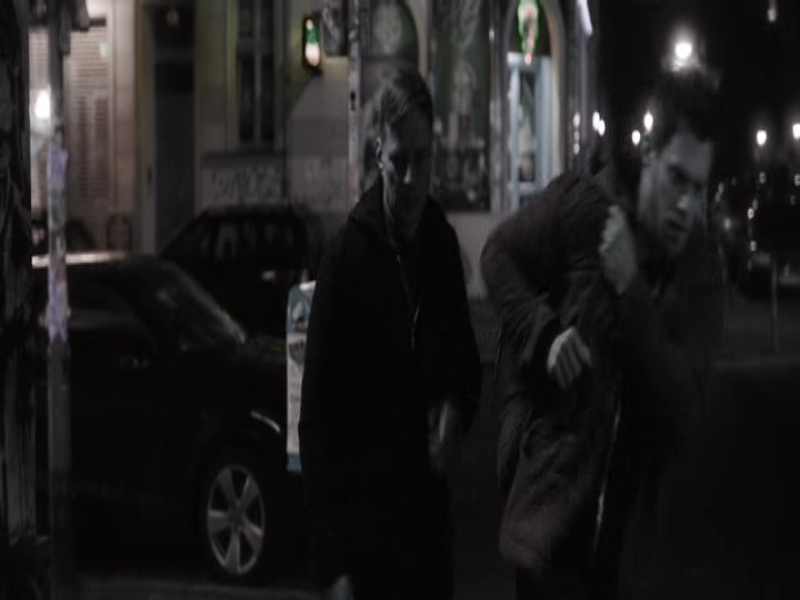TsisyArotava: (631, 102, 723, 264), (366, 94, 447, 243)
